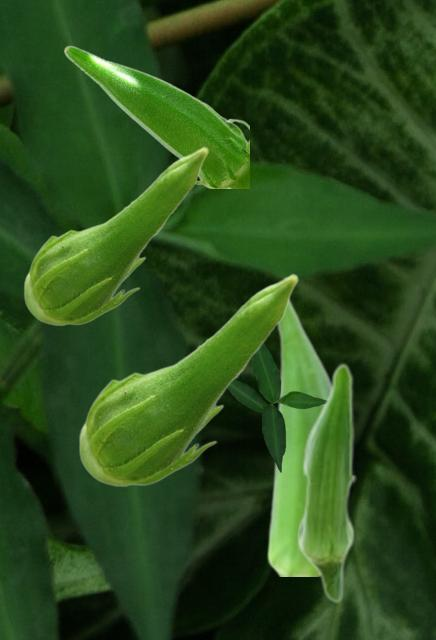okra: (78, 273, 298, 486), (23, 146, 208, 325), (63, 45, 248, 187), (266, 283, 330, 575), (296, 362, 355, 603)
